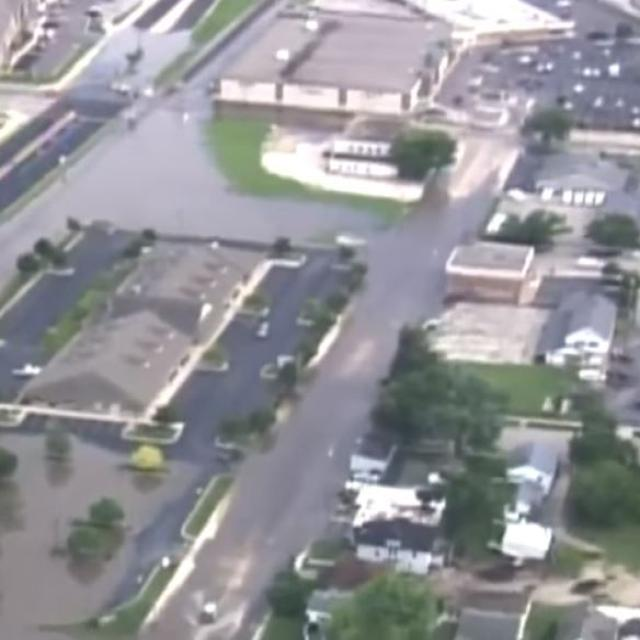flooded_areas: (0, 108, 422, 635)
